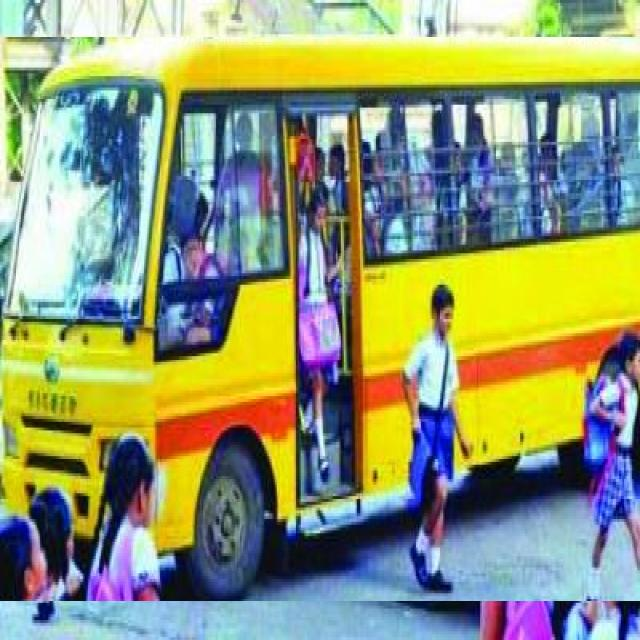bus: (0, 38, 640, 601)
